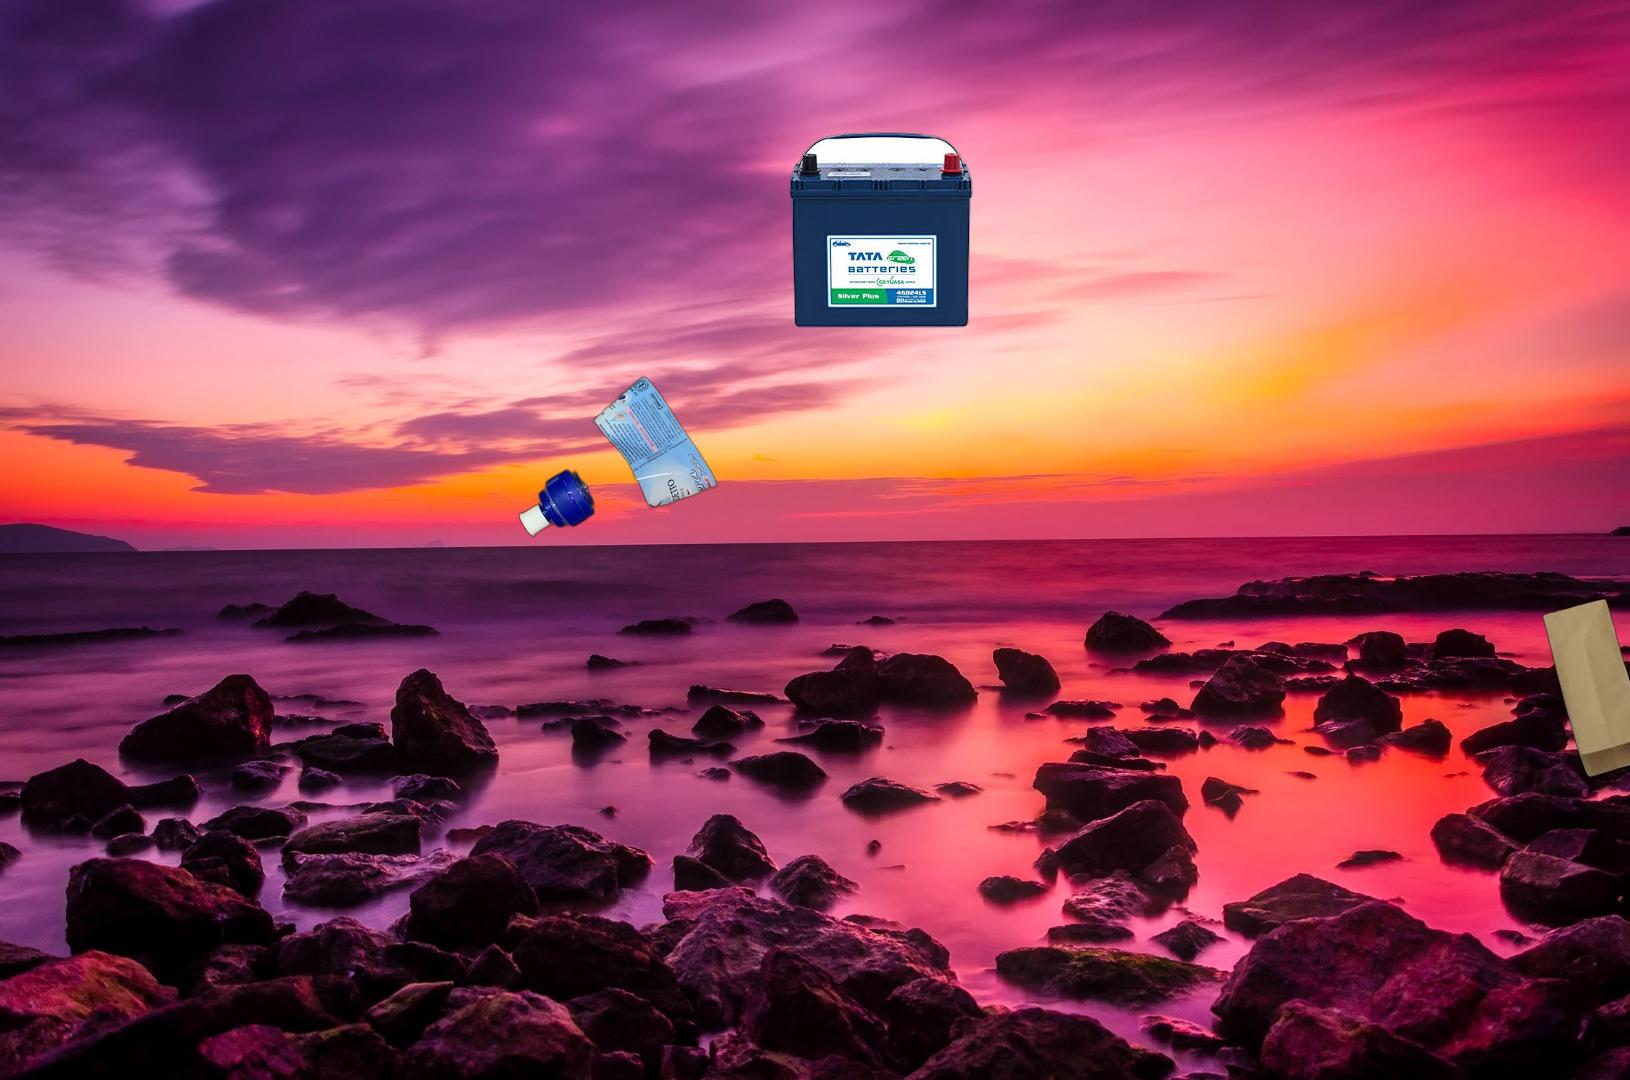battery: (787, 130, 975, 330)
paper-bag: (1541, 595, 1630, 780)
plastic-bottles: (514, 370, 743, 540)
